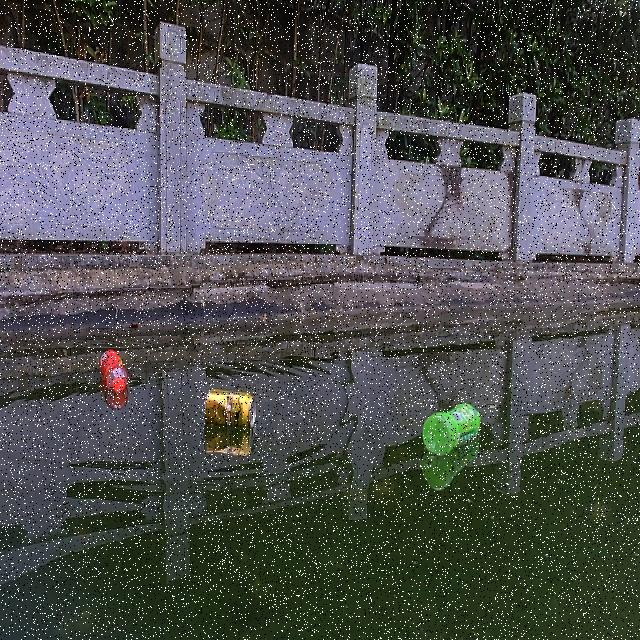Bottle: (420, 398, 481, 454), (98, 348, 128, 395)
Can: (201, 387, 258, 428)
